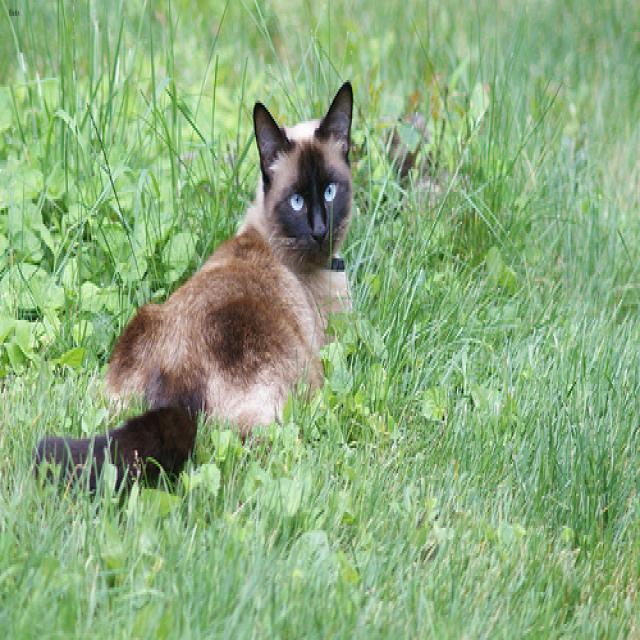Siamese: (249, 76, 362, 273)
